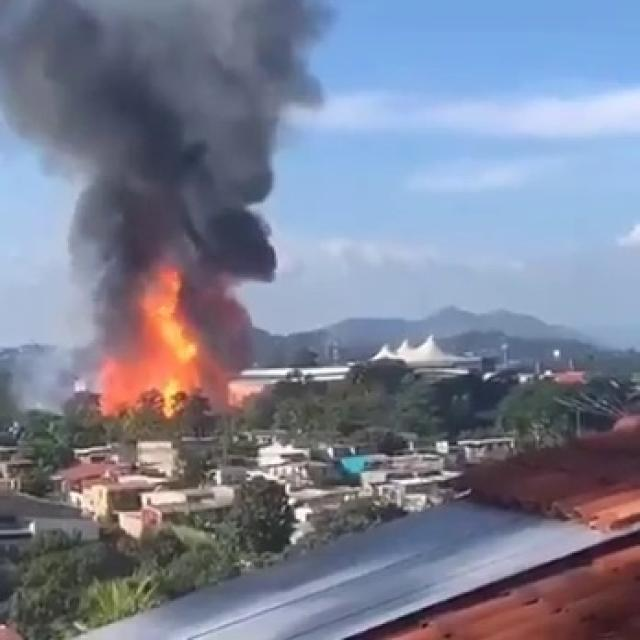Fire: (96, 282, 224, 422)
Smoke: (0, 0, 337, 345)
